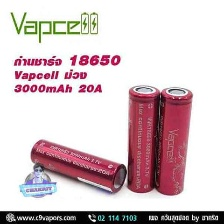battery: (28, 135, 130, 194), (152, 83, 196, 199), (124, 80, 163, 195)
